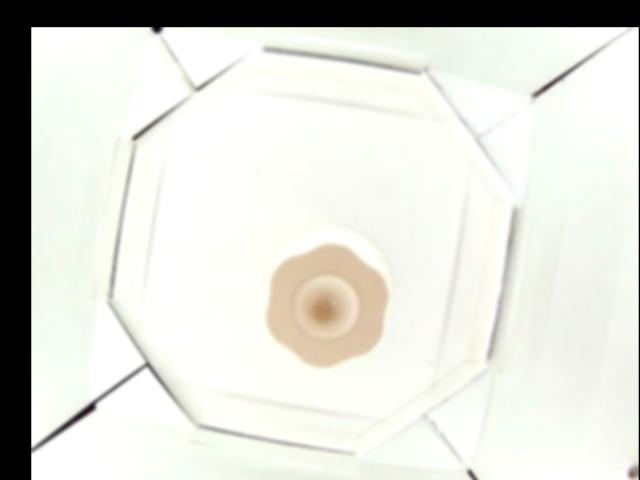Cup: (262, 227, 387, 373)
